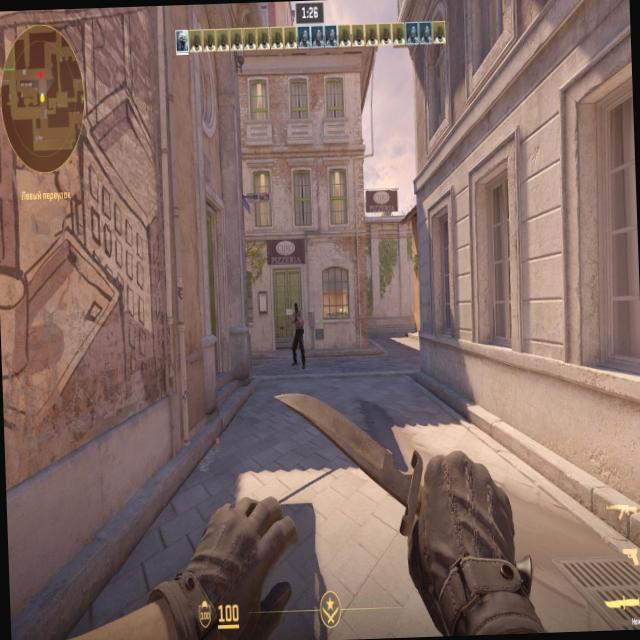T: (293, 300, 304, 360)
T_heat: (294, 302, 300, 316)
